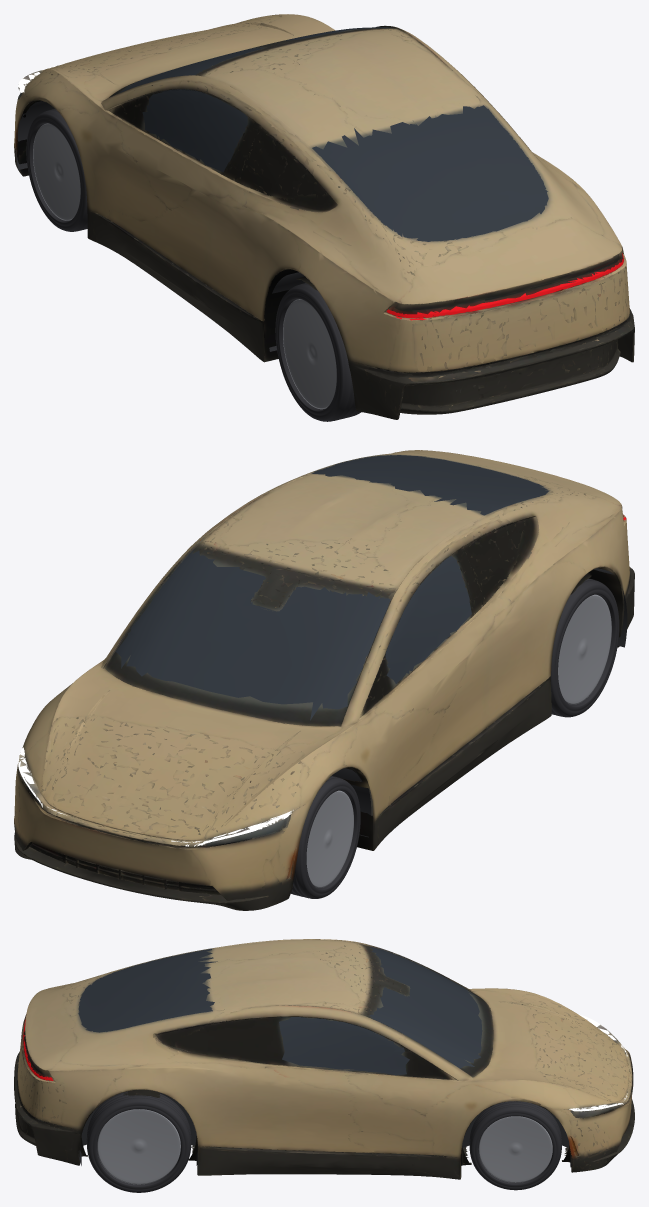
Rendered from teleopCybercabClean.30e5baa3.glb.
3 renders of one model, top to bottom at view 1: azimuth 30°, elevation 25°; view 2: azimuth 150°, elevation 25°; view 3: azimuth 270°, elevation 25°, orthographic. The views are drawn at different scales.
Visible parts, largest first — view 1: Body, Glass, CoverR, TyreR, CoverF, TyreF, Tail, Liner; view 2: Body, Glass, CoverR, CoverF, TyreR, TyreF, Liner, Head; view 3: Body, Glass, CoverR, CoverF, TyreR, TyreF, Liner.
Part boxes in pixels (x1,y1,x2,y2): Body: (14, 14, 634, 419); Glass: (119, 27, 548, 241); CoverR: (283, 299, 336, 409); TyreR: (275, 283, 361, 421); CoverF: (33, 123, 80, 220); TyreF: (26, 109, 87, 231); Tail: (386, 253, 623, 320); Liner: (15, 101, 305, 351); Body: (14, 450, 634, 910); Glass: (115, 455, 549, 720); CoverR: (558, 594, 611, 704); CoverF: (306, 790, 353, 887); TyreR: (551, 578, 619, 717); TyreF: (291, 776, 360, 898); Liner: (332, 568, 627, 837); Head: (18, 747, 293, 846); Body: (14, 939, 634, 1179); Glass: (78, 946, 482, 1075); CoverR: (97, 1109, 180, 1184); CoverF: (478, 1116, 552, 1182); TyreR: (86, 1091, 191, 1192); TyreF: (469, 1101, 561, 1190); Liner: (78, 1092, 572, 1167).
Size of the model in its own units: 1.75 by 1.39 by 4.42.
7 materials, 1 textured.
